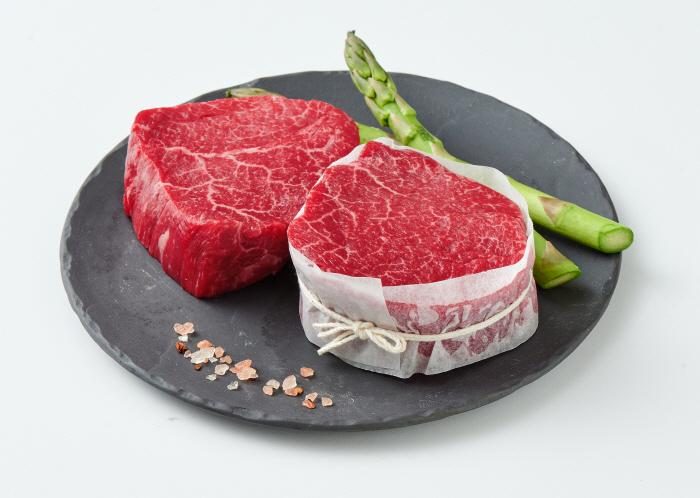beef: (138, 72, 400, 233), (317, 110, 576, 220)
